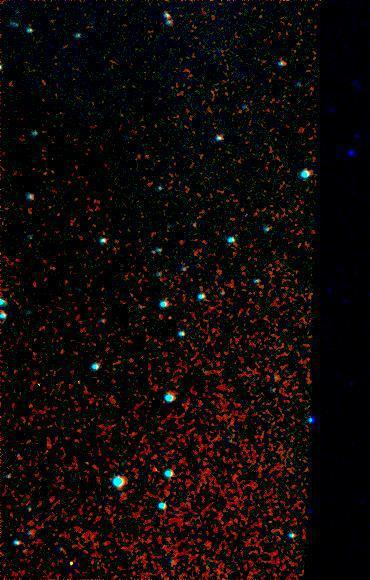star: (56, 548, 86, 578)
